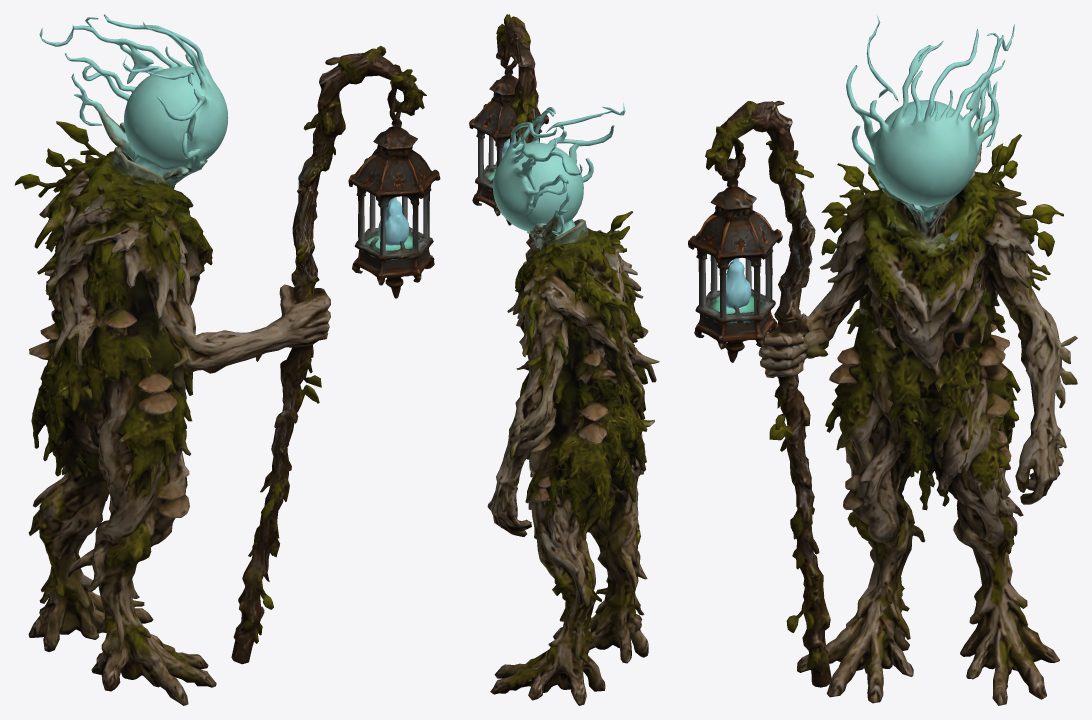
The model's file is LanternWisp-tripo.glb.
The picture shows the model from 3 angles, left to right: view 1: azimuth 30°, elevation 25°; view 2: azimuth 150°, elevation 25°; view 3: azimuth 270°, elevation 25°; orthographic projection. The views are drawn at different scales.
Visible parts, largest first — view 1: tripo_node_fed98439-c0db-4b86-ac26-0c544384d104; view 2: tripo_node_fed98439-c0db-4b86-ac26-0c544384d104; view 3: tripo_node_fed98439-c0db-4b86-ac26-0c544384d104.
Part boxes in pixels (bbox=[...]): tripo_node_fed98439-c0db-4b86-ac26-0c544384d104: bbox=[14, 14, 440, 705]; tripo_node_fed98439-c0db-4b86-ac26-0c544384d104: bbox=[469, 14, 659, 705]; tripo_node_fed98439-c0db-4b86-ac26-0c544384d104: bbox=[688, 16, 1077, 705].
Size of the model in its own units: 0.4722 by 1 by 0.5376.
1 material, 1 textured.
